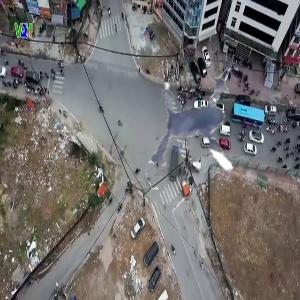drone: (120, 59, 291, 230)
